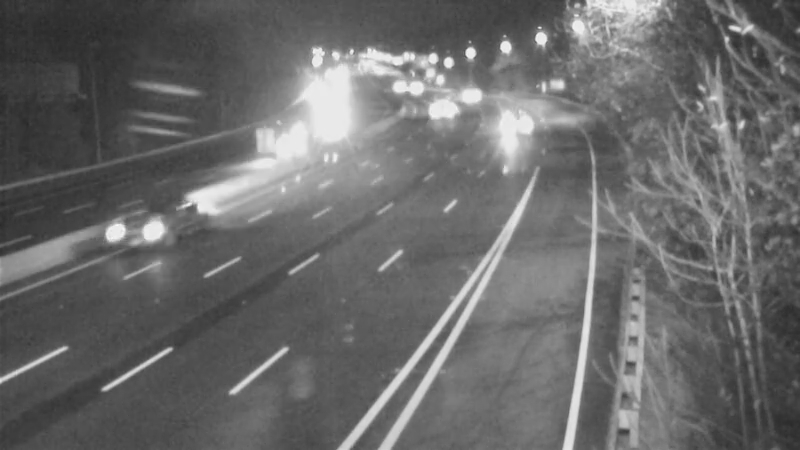vehicle: (111, 194, 191, 274), (370, 61, 420, 111), (388, 63, 438, 113), (450, 68, 500, 118), (423, 77, 473, 127), (485, 97, 535, 147), (262, 121, 312, 171)
